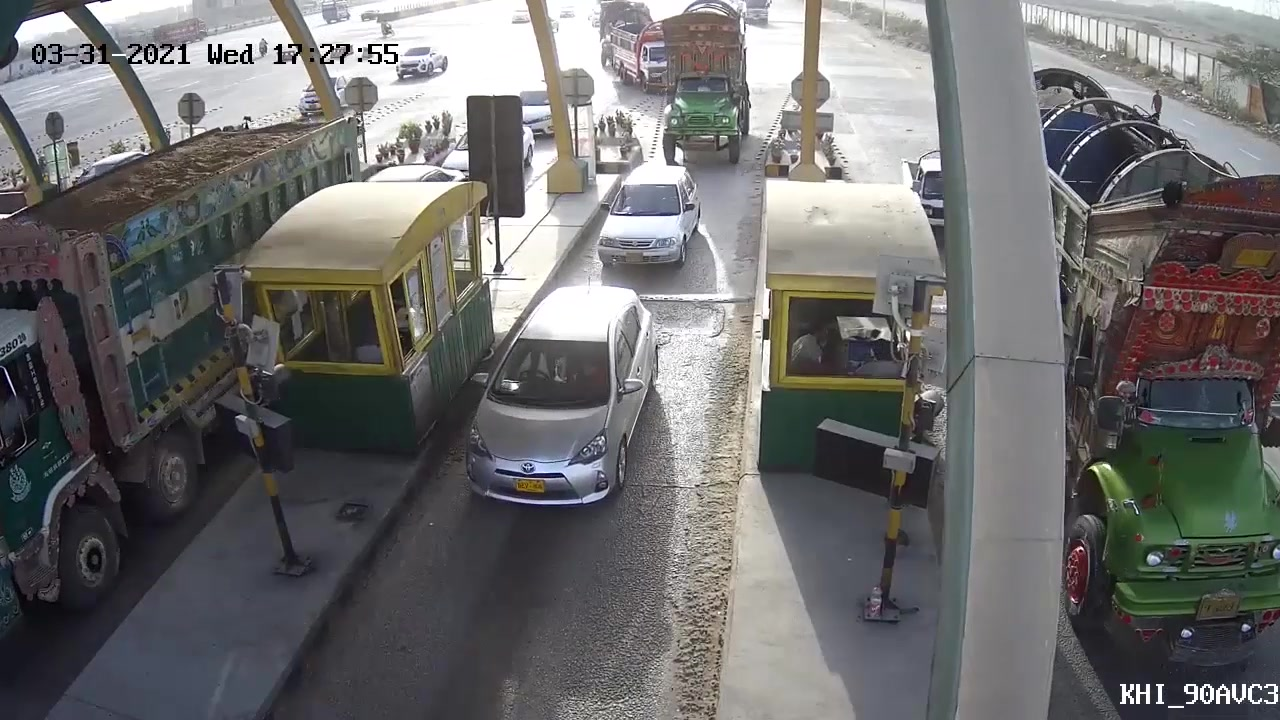F1: (455, 274, 652, 534), (591, 155, 701, 268)
